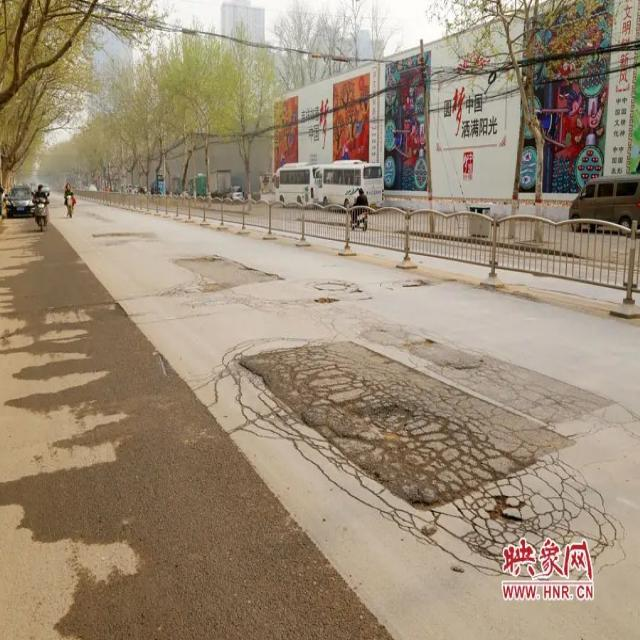Pothole: (234, 339, 581, 515), (176, 255, 286, 291), (310, 280, 434, 310)
